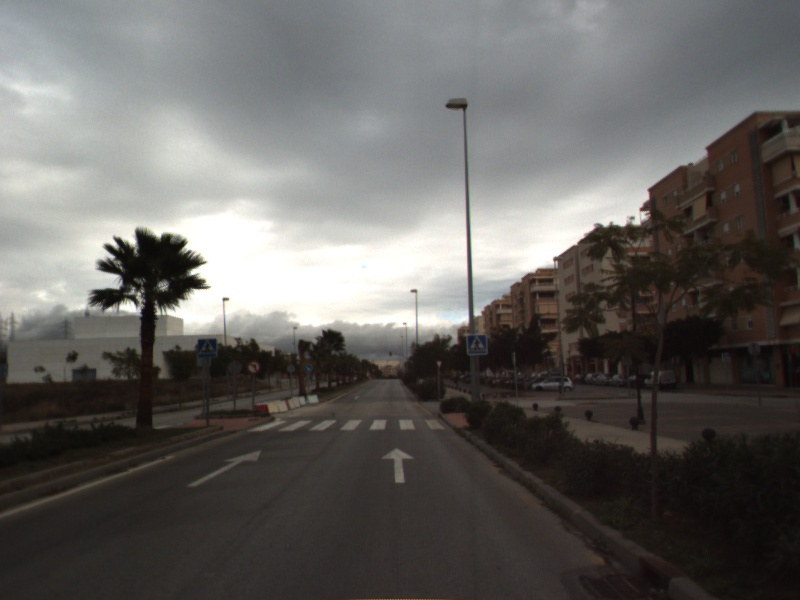STRAIGHT: (186, 448, 263, 488), (380, 446, 416, 485)
